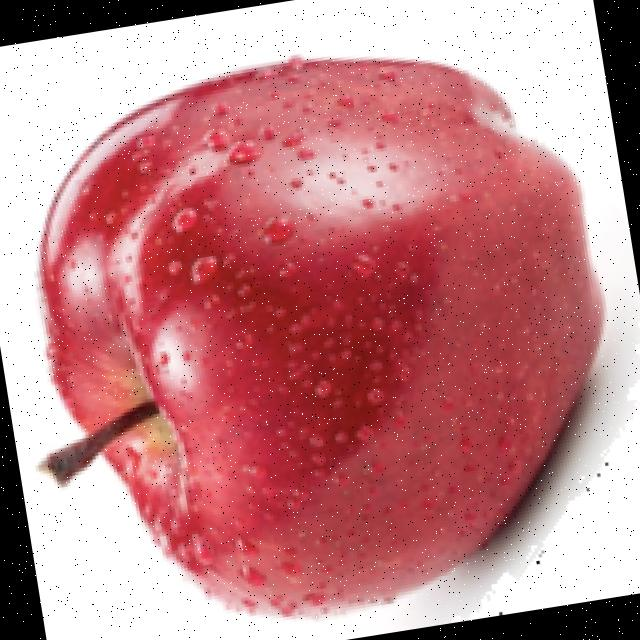apple: (30, 49, 640, 624)
